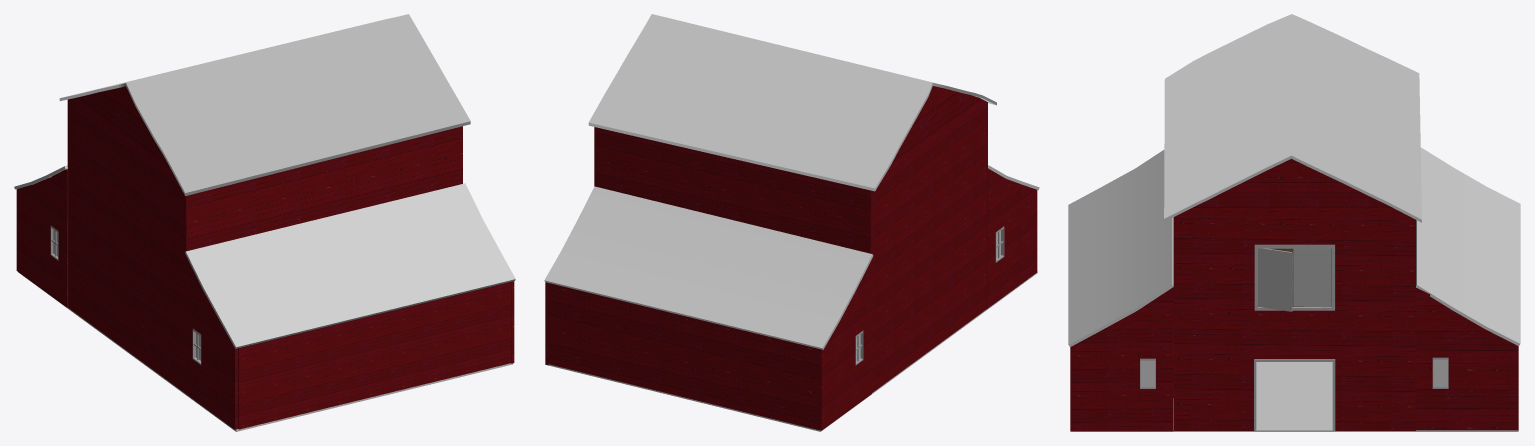
The model's file is barn.fbx.
3 views of the same model, side by side, from view 1: azimuth 30°, elevation 25°; view 2: azimuth 150°, elevation 25°; view 3: azimuth 270°, elevation 25° (orthographic). The views are drawn at different scales.
Parts seen in each view (by area): view 1: roof1, hpiece16, hpiece8, hpiece17, hpiece13, side, side1, roof6, hpiece15; view 2: roof1, hpiece7, hpiece8, hpiece6, hpiece12, side, side1, roof6, hpiece15; view 3: hpiece2, roof1, hpiece7, hpiece16, barn_face, side2, barnroof, hpiece15, door5, door6, frame_top, barn_frame (+2 smaller).
Part boxes in pixels (x1=…): roof1: x1=59, y1=14, x2=470, y2=195; hpiece16: x1=185, y1=183, x2=515, y2=348; hpiece8: x1=68, y1=99, x2=187, y2=392; hpiece17: x1=238, y1=282, x2=510, y2=429; hpiece13: x1=184, y1=126, x2=462, y2=251; side: x1=184, y1=251, x2=238, y2=429; side1: x1=16, y1=169, x2=68, y2=307; roof6: x1=69, y1=86, x2=174, y2=176; hpiece15: x1=18, y1=272, x2=512, y2=431; roof1: x1=588, y1=14, x2=996, y2=191; hpiece7: x1=544, y1=186, x2=873, y2=349; hpiece8: x1=871, y1=101, x2=986, y2=392; hpiece6: x1=548, y1=283, x2=819, y2=430; hpiece12: x1=596, y1=127, x2=871, y2=253; side: x1=987, y1=168, x2=1037, y2=308; side1: x1=819, y1=259, x2=871, y2=430; roof6: x1=885, y1=86, x2=985, y2=175; hpiece15: x1=545, y1=271, x2=1037, y2=431; hpiece2: x1=1174, y1=215, x2=1415, y2=430; roof1: x1=1164, y1=14, x2=1421, y2=222; hpiece7: x1=1416, y1=147, x2=1520, y2=346; hpiece16: x1=1068, y1=150, x2=1173, y2=346; barn_face: x1=1070, y1=286, x2=1173, y2=431; side2: x1=1416, y1=288, x2=1518, y2=430; barnroof: x1=1177, y1=159, x2=1407, y2=215; hpiece15: x1=1070, y1=362, x2=1518, y2=431; door5: x1=1293, y1=248, x2=1331, y2=307; door6: x1=1258, y1=248, x2=1292, y2=311; frame_top: x1=1254, y1=244, x2=1334, y2=310; barn_frame: x1=1254, y1=359, x2=1335, y2=430.
Bounding box in the file's own units: 54.13 × 47.85 × 70.47.
